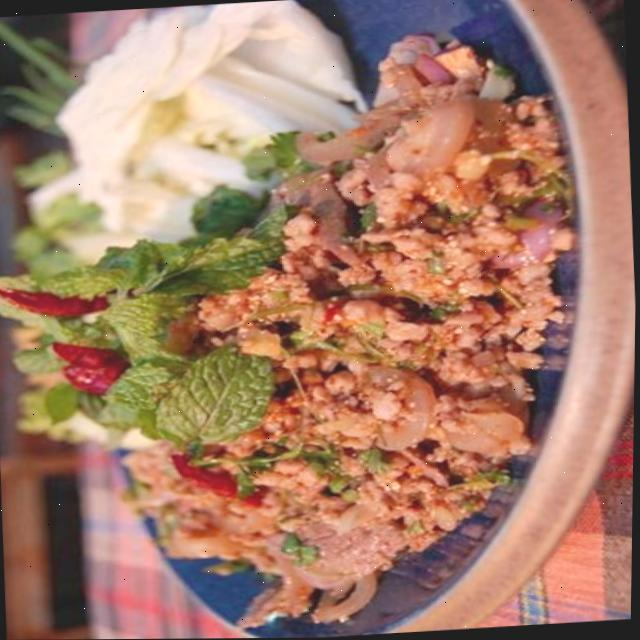鸡肉料理 含炸鸡: (21, 0, 640, 640)
